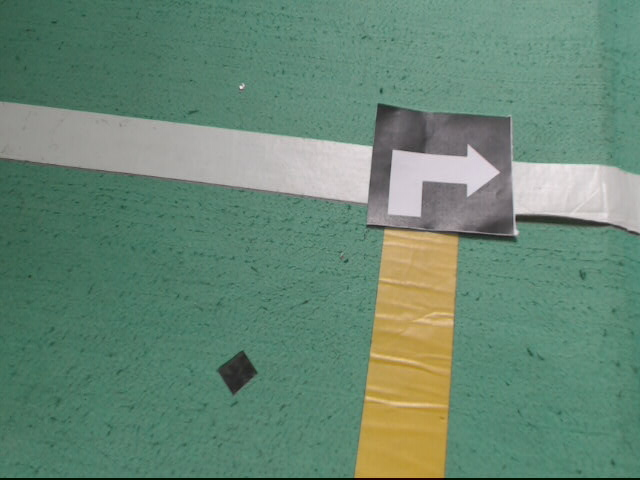right: (365, 100, 520, 238)
